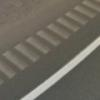crosswalks: (0, 0, 100, 85)
